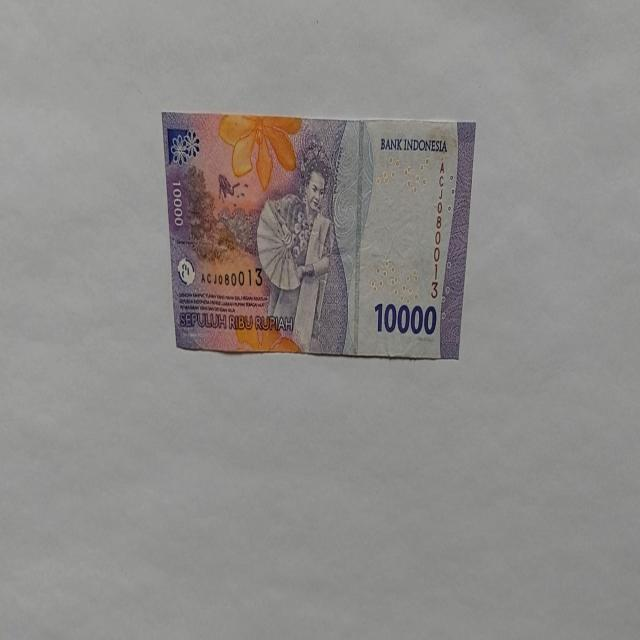sepuluh ribu rupiah: (160, 110, 476, 360)
